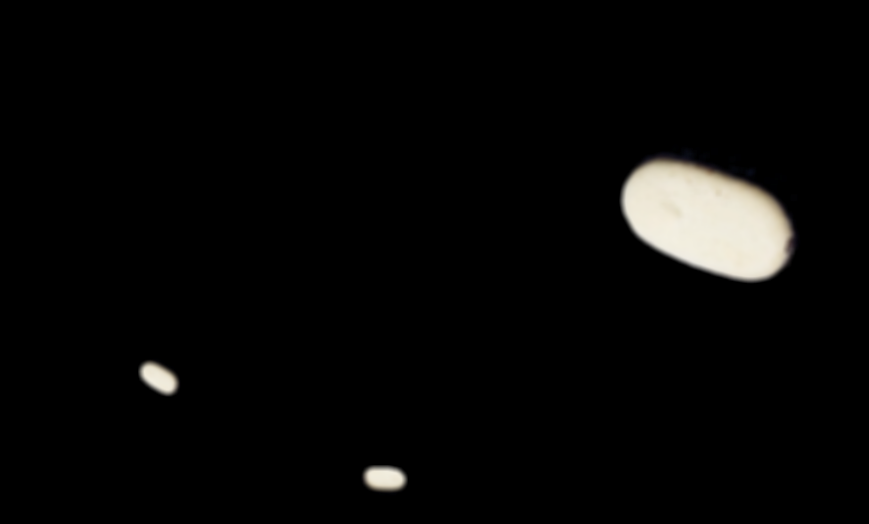test: (605, 103, 824, 323), (357, 454, 409, 506), (138, 354, 183, 399)
